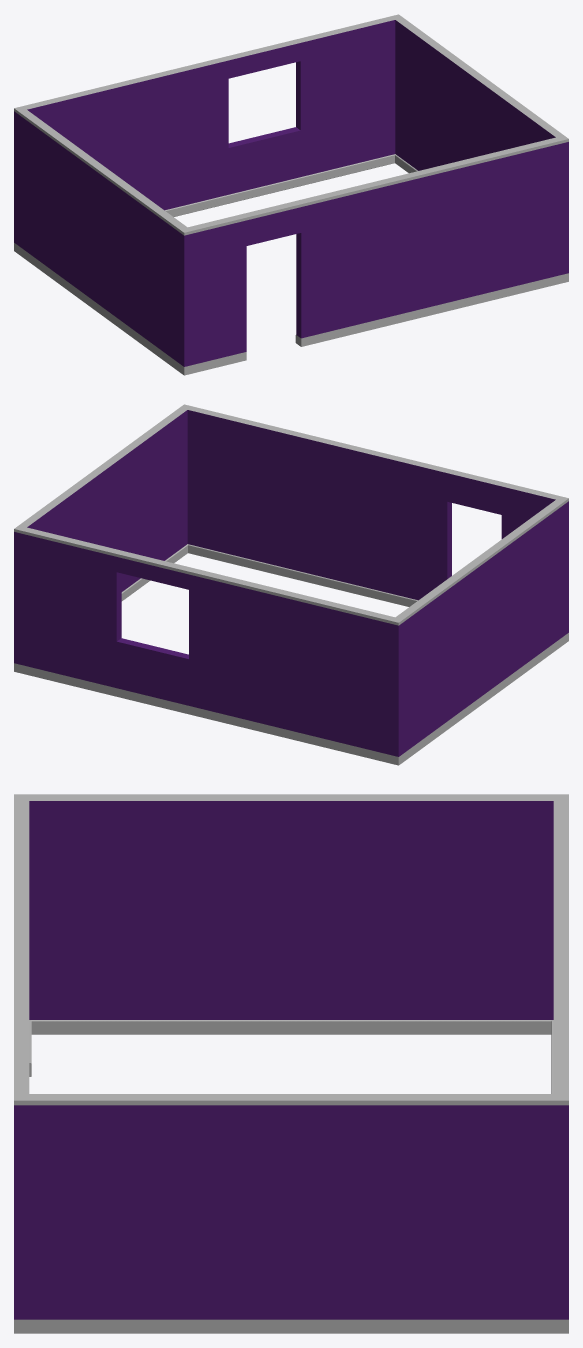
3 renders of one model, top to bottom at view 1: azimuth 30°, elevation 25°; view 2: azimuth 150°, elevation 25°; view 3: azimuth 270°, elevation 25°, orthographic. The views are drawn at different scales.
Parts seen in each view (by area): view 1: FP301:StandardWallSize.001; view 2: FP301:StandardWallSize.001; view 3: FP301:StandardWallSize.001.
Part boxes in pixels (x1,y1,x2,y2): FP301:StandardWallSize.001: (14,14,568,375); FP301:StandardWallSize.001: (14,404,568,765); FP301:StandardWallSize.001: (14,794,568,1333).
Size of the model in its own units: 705 by 250 by 540.
